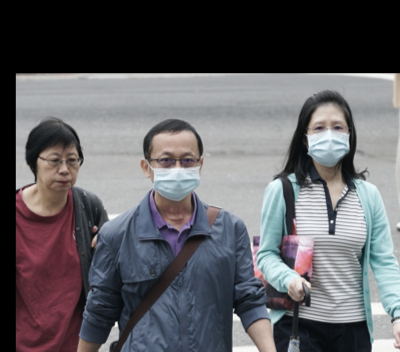with_mask: (149, 150, 203, 201), (305, 116, 350, 166)
without_mask: (36, 151, 80, 192)
